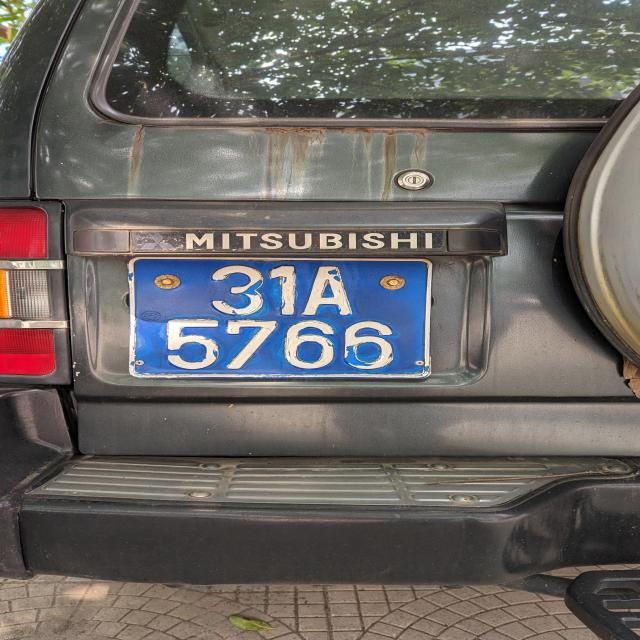License: (127, 256, 432, 379)
